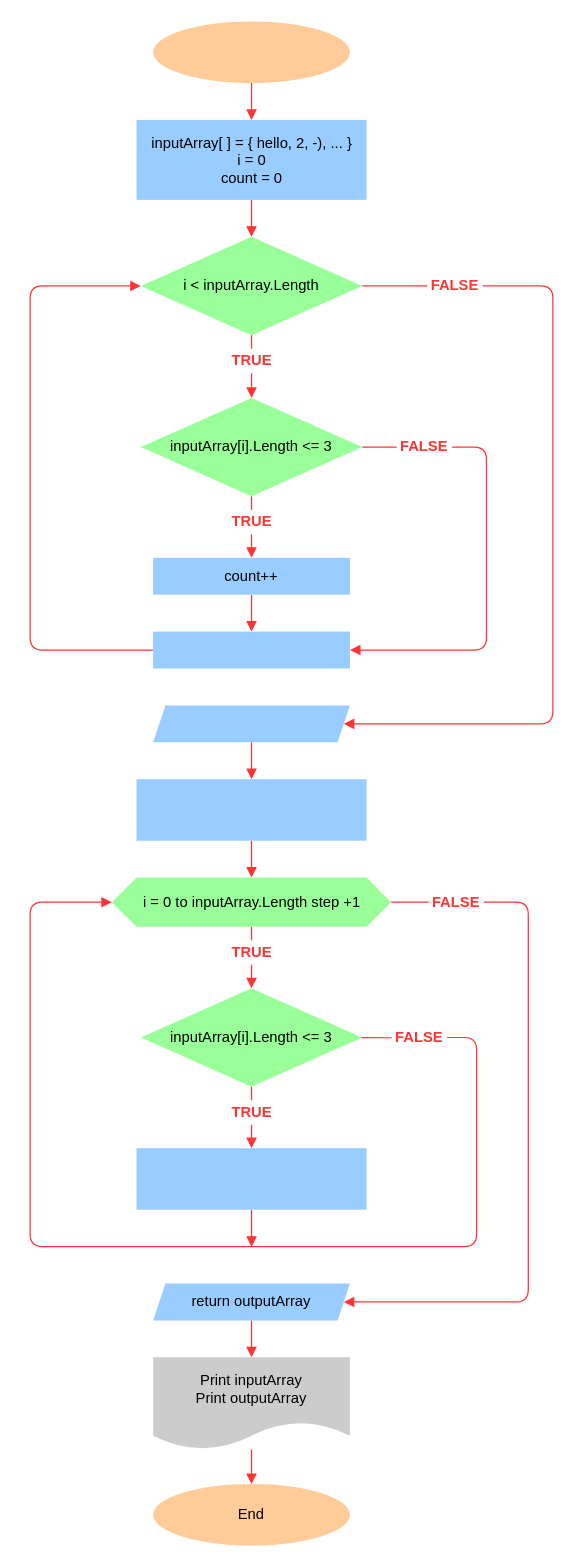
This 584x1566 diagram has some shape labels left out. The shapes that lost their labels are listed below. From the top down, each one's centre as x and y in pixels, then its label:
At [251,51]: "Start".
At [251,649]: "i++".
At [251,723]: "return count".
At [251,809]: "outputArray[ ] with size of count index = 0".
At [251,1178]: "outputArray[index] = inputArray[i] index++".
